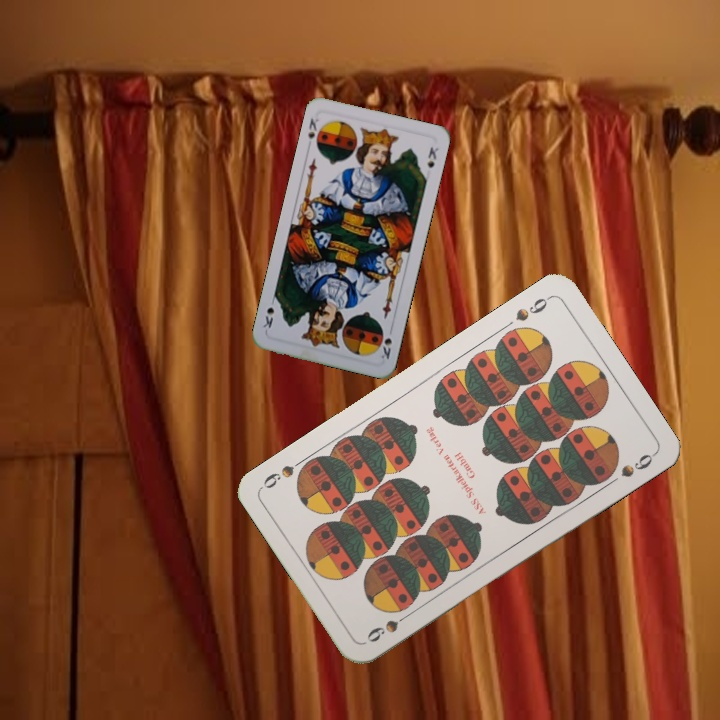S9: (362, 608, 415, 645), (511, 292, 554, 324)
SK: (377, 323, 395, 362), (304, 114, 321, 142)
